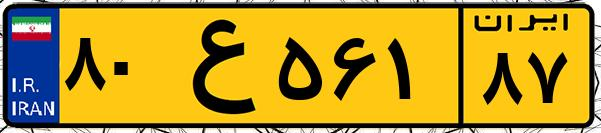0: (110, 28, 158, 98)
1: (385, 28, 445, 110)
5: (270, 28, 330, 110)
6: (330, 28, 385, 110)
7: (525, 38, 570, 115)
8: (57, 26, 110, 100), (475, 38, 525, 113)
ع: (158, 12, 270, 120)
